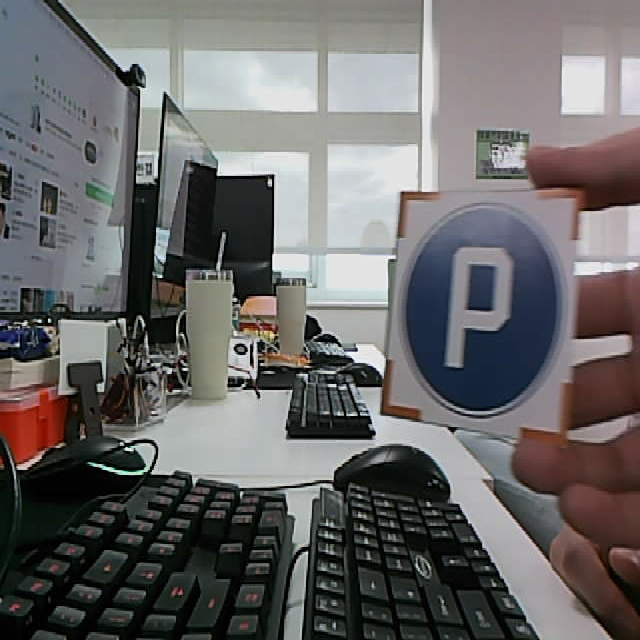parking: (378, 188, 582, 445)
